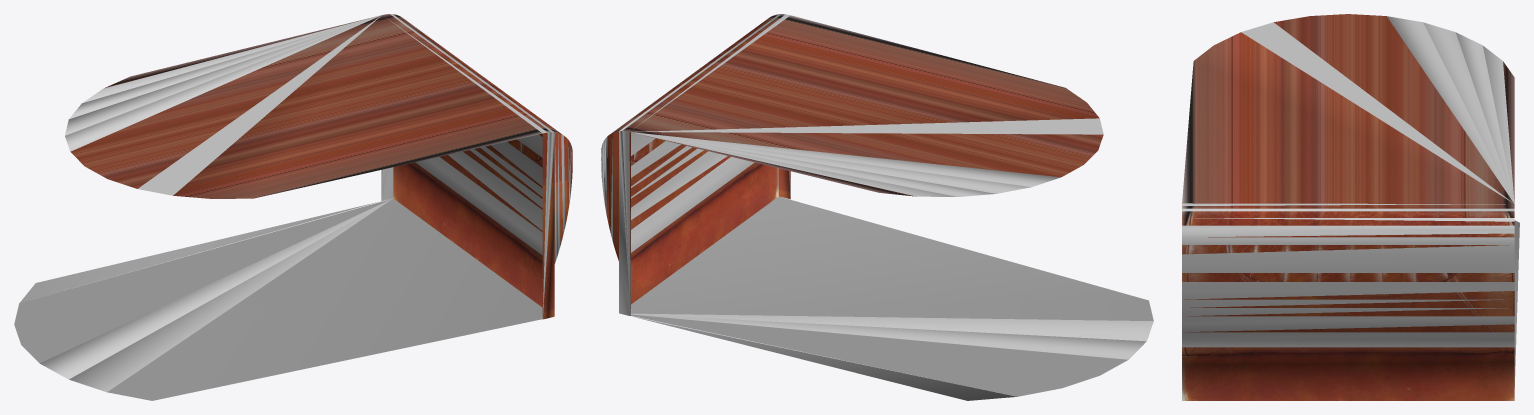
File: seat.obj
The picture shows the model from 3 angles, left to right: view 1: azimuth 30°, elevation 25°; view 2: azimuth 150°, elevation 25°; view 3: azimuth 270°, elevation 25°; orthographic projection. The views are drawn at different scales.
Parts seen in each view (by area): view 1: seat_mesh2_mesh2-geometry.001; view 2: seat_mesh2_mesh2-geometry.001; view 3: seat_mesh2_mesh2-geometry.001.
Boxes of the visible parts, <box> form: seat_mesh2_mesh2-geometry.001: <box>14,14,572,400</box>; seat_mesh2_mesh2-geometry.001: <box>601,14,1153,400</box>; seat_mesh2_mesh2-geometry.001: <box>1182,14,1519,400</box>.
Bounding box in the file's own units: 0.6469 × 0.2541 × 0.4066.
